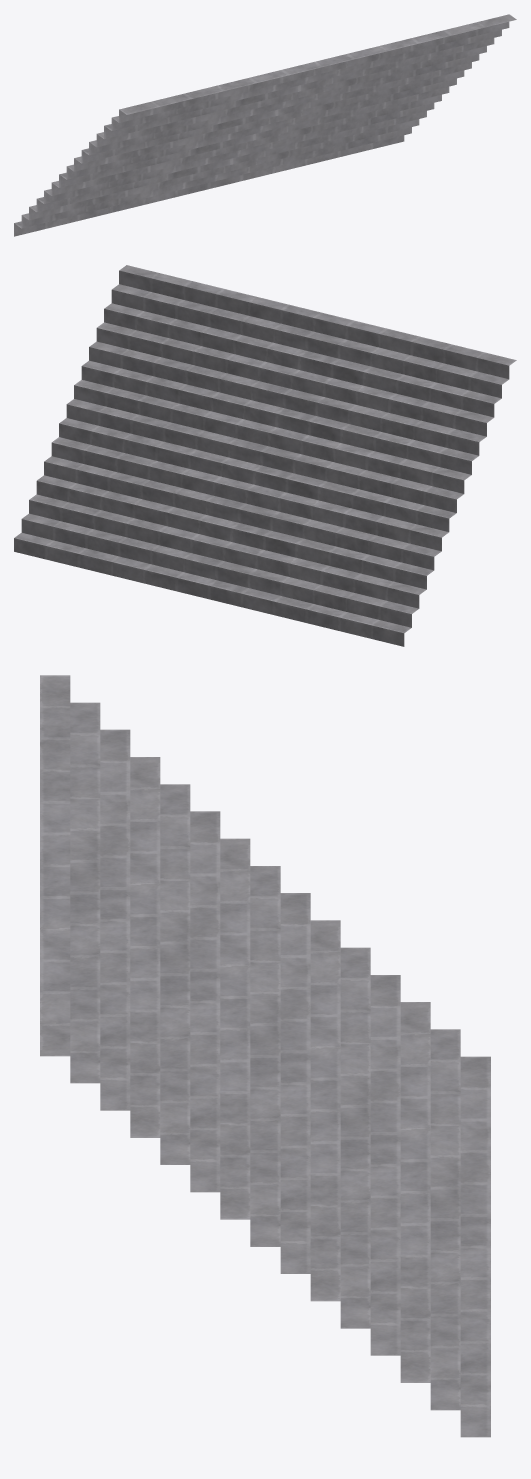
The model's file is Stair_3H_A.fbx.
3 renders of one model, top to bottom at view 1: azimuth 30°, elevation 25°; view 2: azimuth 150°, elevation 25°; view 3: azimuth 270°, elevation 25°, orthographic. The views are drawn at different scales.
Visible parts, largest first — view 1: Stair_3H_A; view 2: Stair_3H_A; view 3: Stair_3H_A.
Boxes of the visible parts, x1,y1,x2,y2 form: Stair_3H_A: (14, 14, 516, 236); Stair_3H_A: (14, 265, 516, 646); Stair_3H_A: (40, 675, 490, 1437).
Bounding box in the file's own units: 6 × 3 × 3.
